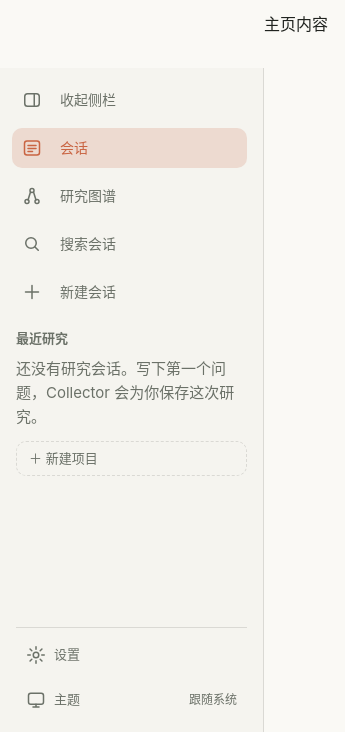
Test: AppShell 宽屏（≥900px）固定侧栏 › 收起态点击设置：一次展开完整侧栏并保持设置菜单打开
Click the button "收起侧栏" at (130, 100), box [12,80,247,120]
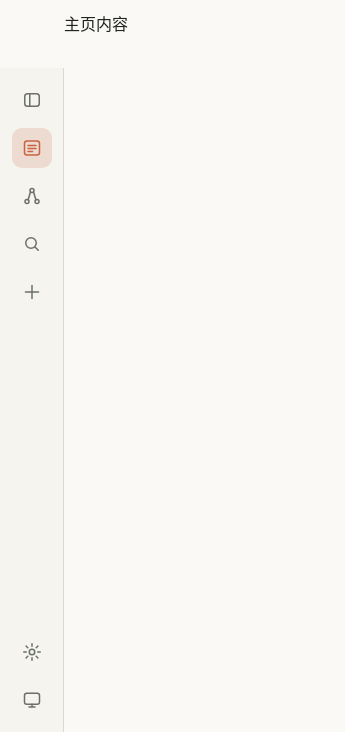
Click the button named "设置" at (32, 652), box [12,632,52,672]
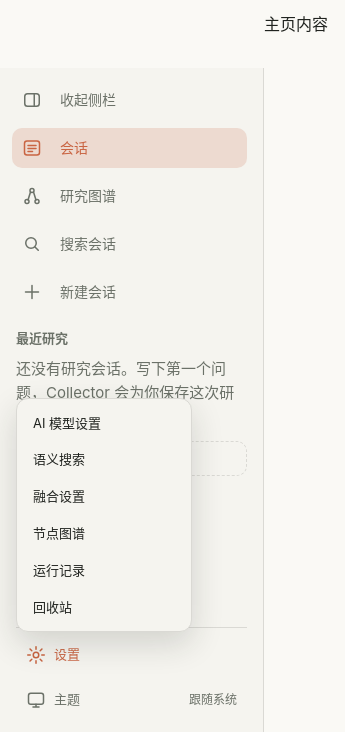
Result: the heading "最近研究" is shown at [16,330,68,346]
Result: the button "收起侧栏" is shown at [12,80,247,120]
Result: the menu "设置" is shown at [16,398,192,632]
